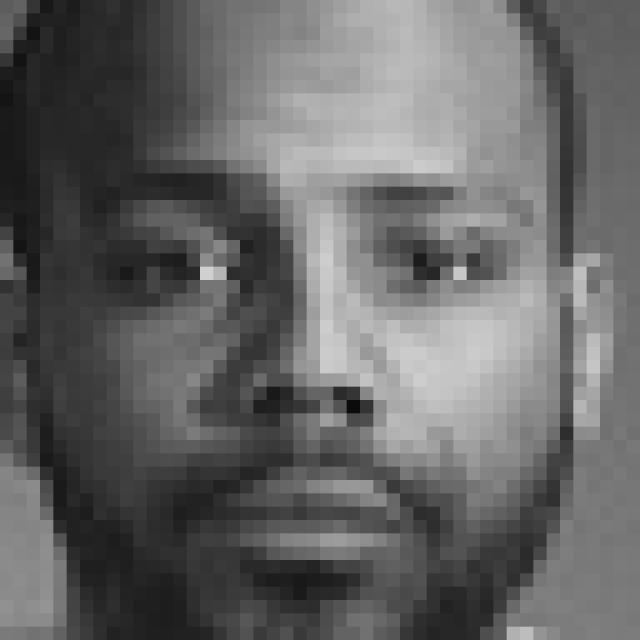neutral: (70, 156, 528, 596)
